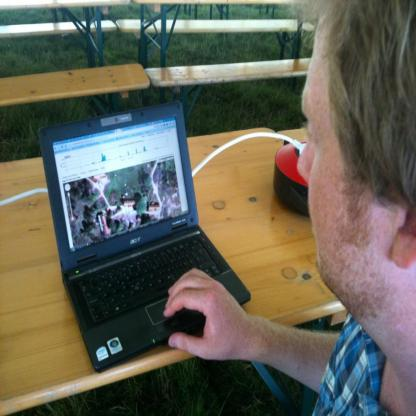board: (37, 100, 252, 373)
